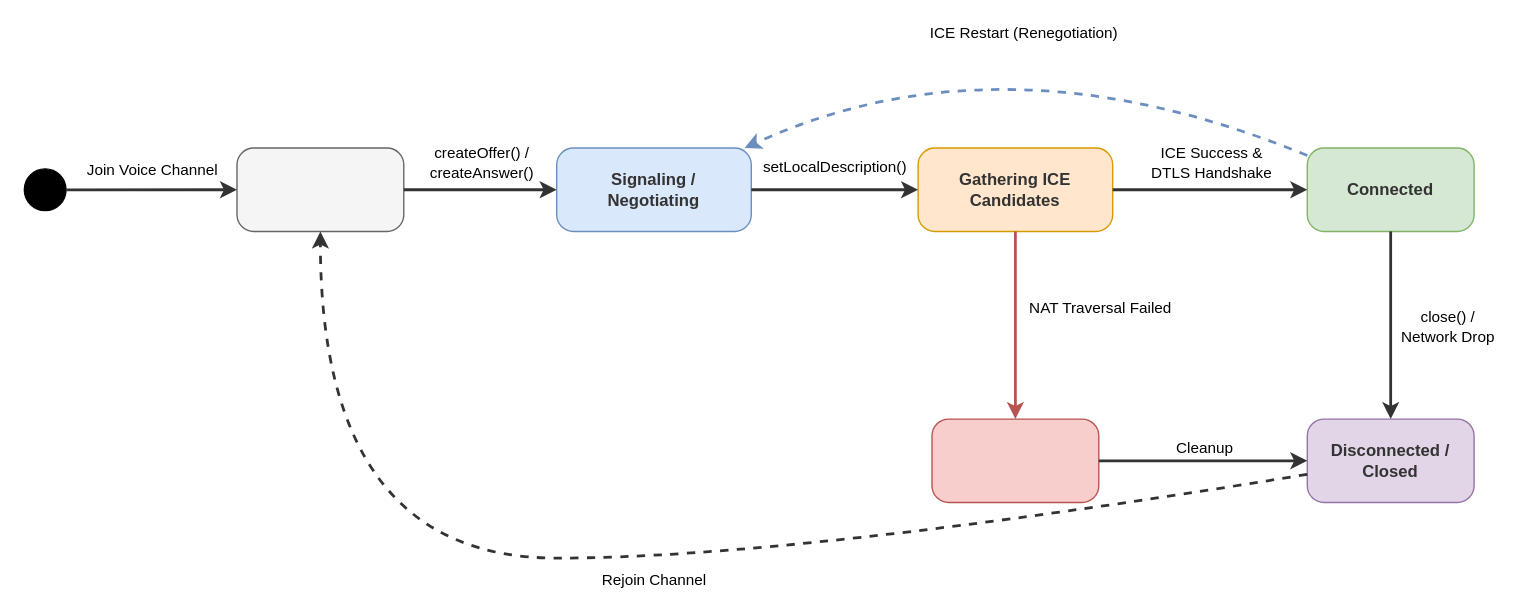
The diagram is 1518 pixels wide and 613 high, and some of its shapes have lost their labels. The centre of each missing label's shape, as x and y in pixels:
"Failed" belongs at [1015,460].
"Idle (New)" belongs at [320,189].
